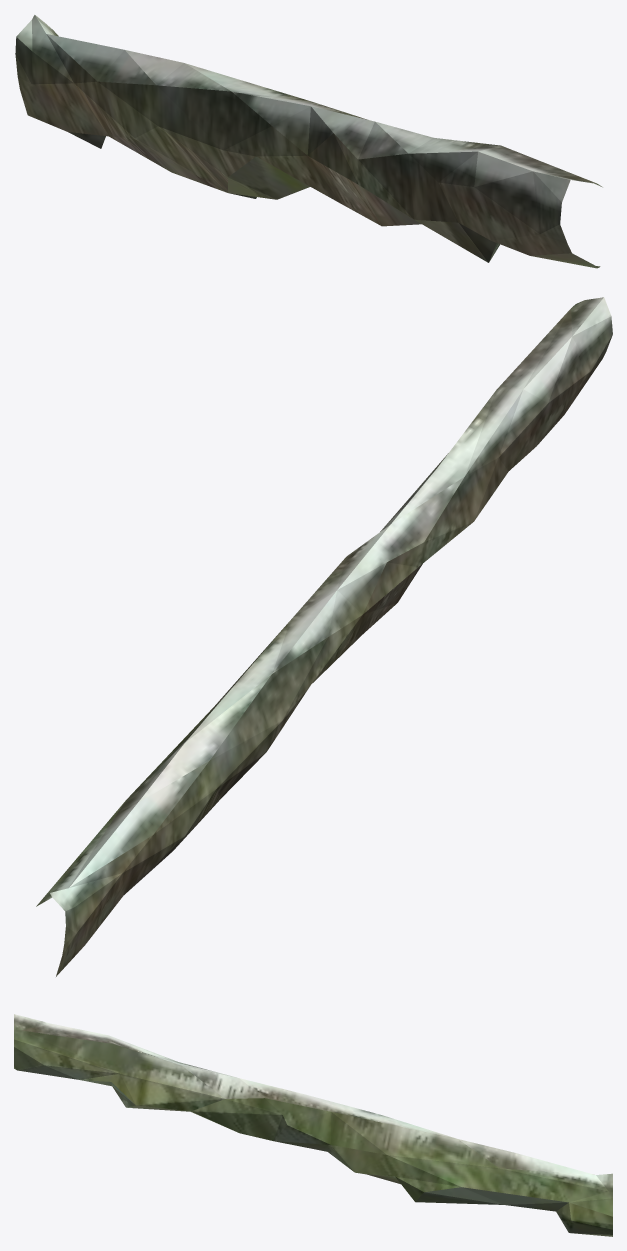
The picture shows the model from 3 angles, top to bottom: view 1: azimuth 30°, elevation 25°; view 2: azimuth 150°, elevation 25°; view 3: azimuth 270°, elevation 25°; orthographic projection. The views are drawn at different scales.
Size of the model in its own units: 0.3429 by 1.1 by 2.95.
1 material, 1 textured.
